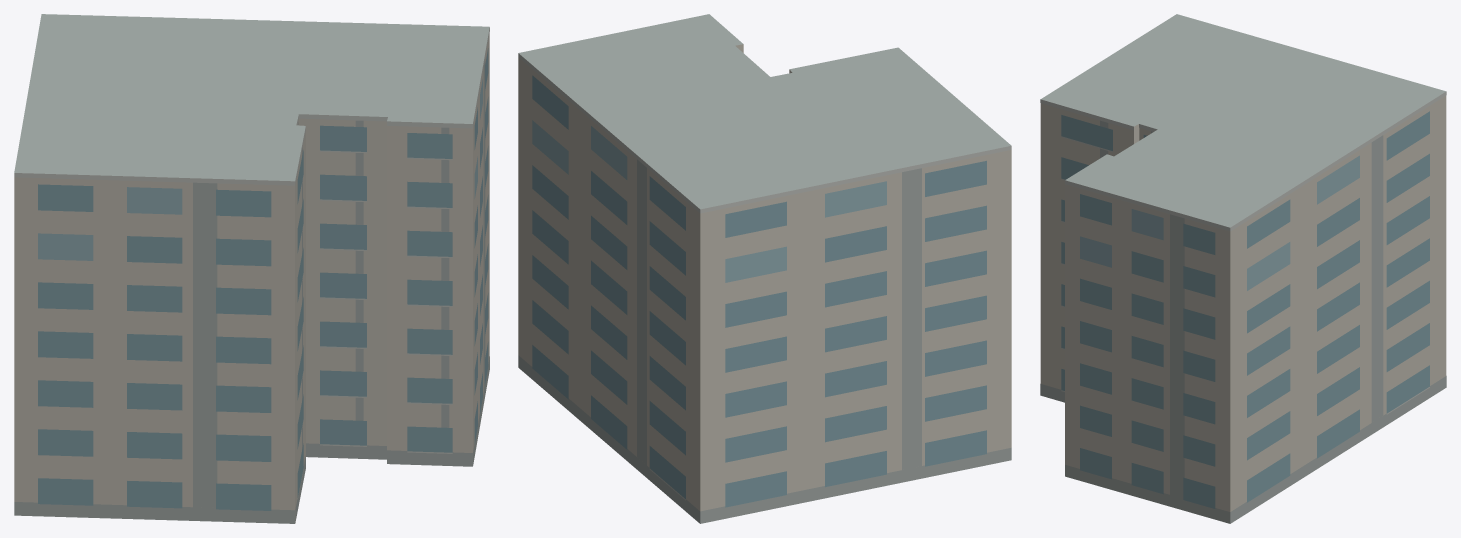
Rendered from survey-upis-32916702.glb.
3 views of the same model, side by side, from view 1: azimuth 30°, elevation 25°; view 2: azimuth 150°, elevation 25°; view 3: azimuth 270°, elevation 25° (orthographic). The views are drawn at different scales.
Visible parts, largest first — view 1: survey-upis-32916702.tmp; view 2: survey-upis-32916702.tmp; view 3: survey-upis-32916702.tmp.
Boxes of the visible parts, bbox=[...] form: survey-upis-32916702.tmp: bbox=[14, 14, 489, 523]; survey-upis-32916702.tmp: bbox=[518, 14, 1011, 523]; survey-upis-32916702.tmp: bbox=[1040, 14, 1446, 523].
Size of the model in its own units: 28.94 by 18.7 by 23.23.
